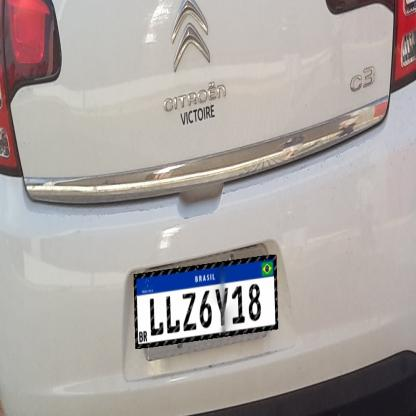PlacaM: (134, 255, 278, 349)
